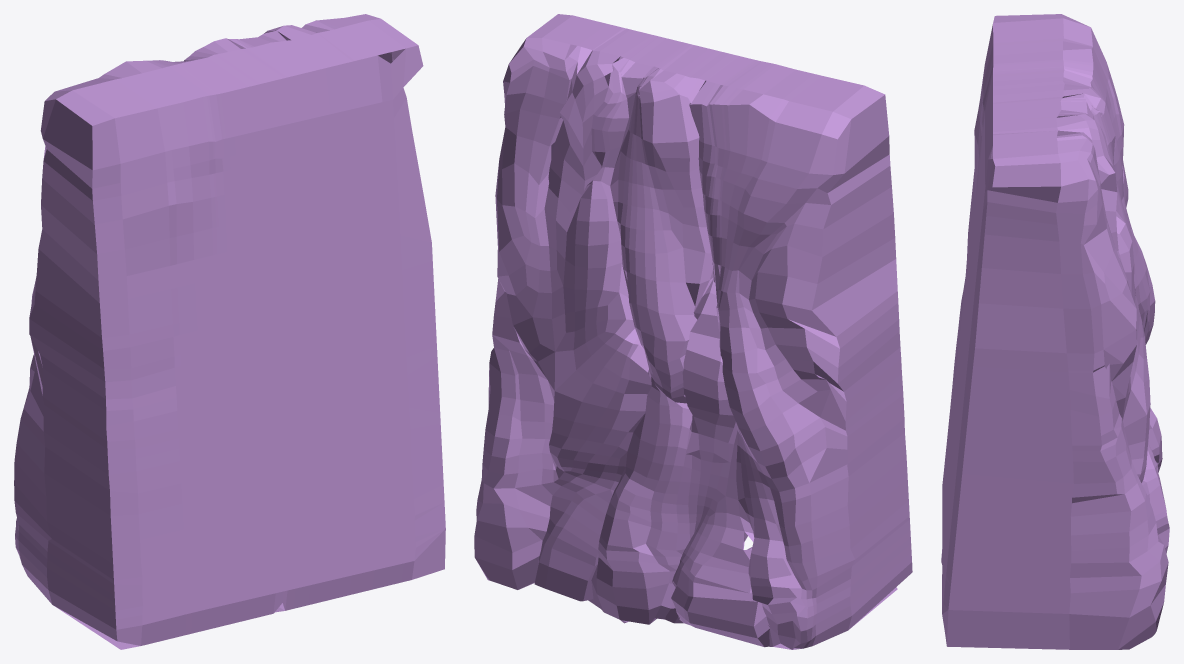
The model's file is Sherbrooke_walltest1_single2.fbx.
3 views of the same model, side by side, from view 1: azimuth 30°, elevation 25°; view 2: azimuth 150°, elevation 25°; view 3: azimuth 270°, elevation 25° (orthographic). The views are drawn at different scales.
Visible parts, largest first — view 1: Plane; view 2: Plane; view 3: Plane.
Part boxes in pixels (x1=…): Plane: x1=14, y1=14, x2=445, y2=649; Plane: x1=474, y1=14, x2=912, y2=649; Plane: x1=941, y1=14, x2=1169, y2=649.
Bounding box in the file's own units: 1287 × 1866 × 783.
